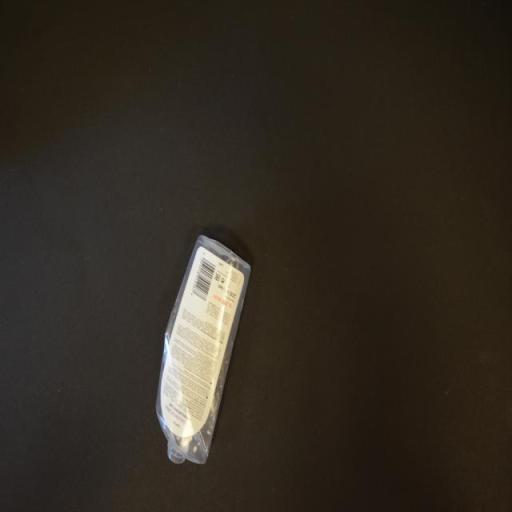plastic: (157, 238, 252, 465)
